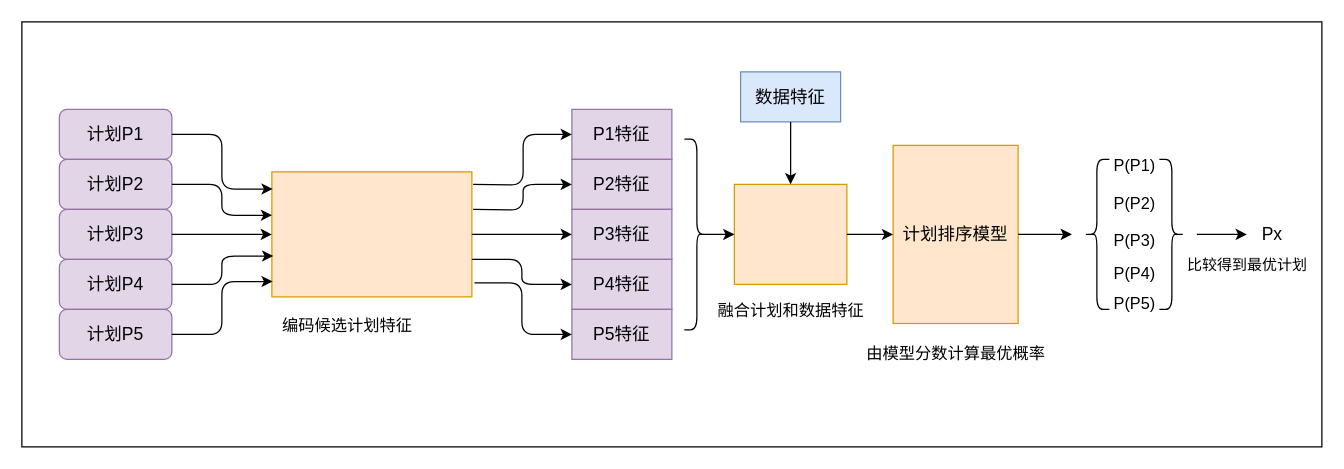
Some shapes in this 1344 by 469 pixel diagram are drawn without their labels. The box of each missing label's shape, as (x1, y1, x2, y2) in pixels:
Tree-LSTM 特征网络: (271, 171, 472, 297)
特征融合网络: (733, 183, 847, 284)
